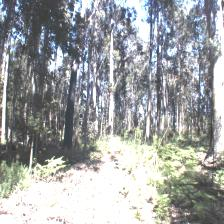trunktrack_idkeyframe: (63, 84, 76, 148)
